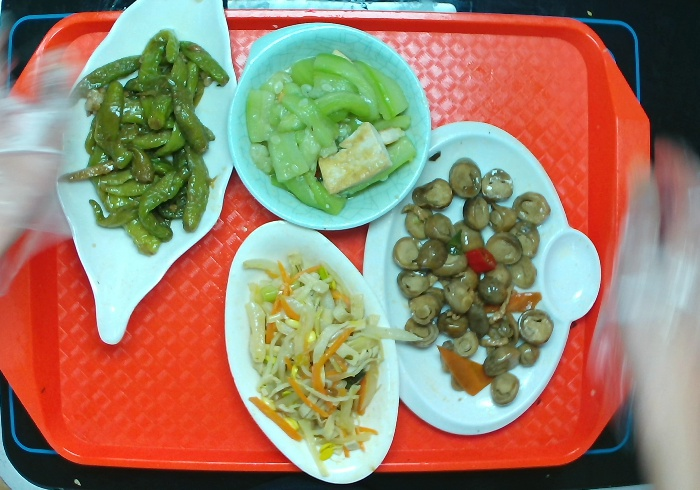RJxy-Bai_Se_Tuo_Yuan: (223, 216, 401, 487)
RJxy-Shu_Ye_Pan: (57, 1, 237, 349)
RJxy-Xiao_Jiao_Yuan_Wan: (225, 19, 437, 236)
RJxy-Zhan_Liao_Pan: (355, 120, 602, 439)
